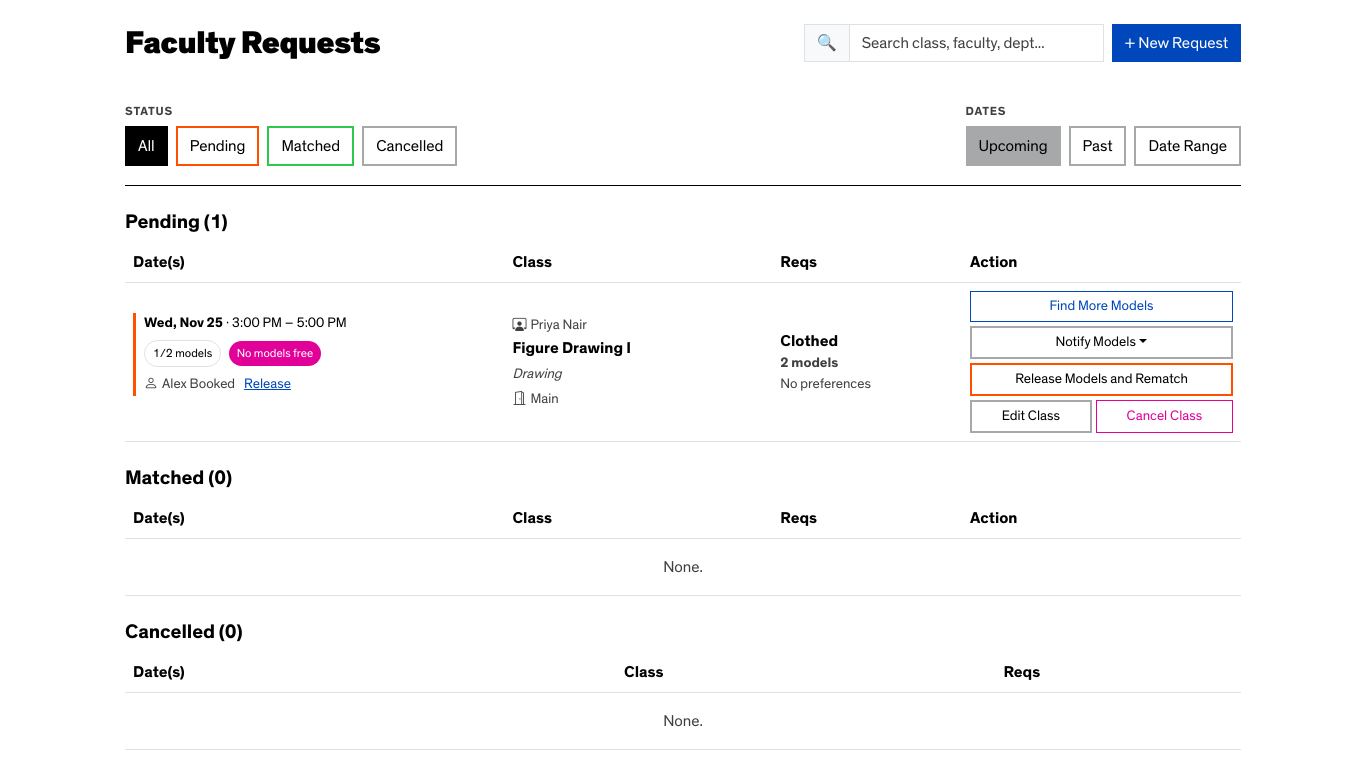
AllRequests (admin requests page) › which dates the page shows › can narrow to a date range, with labelled fields
Click the button "Date Range" at x=1188, y=146, box [1134, 126, 1241, 166]
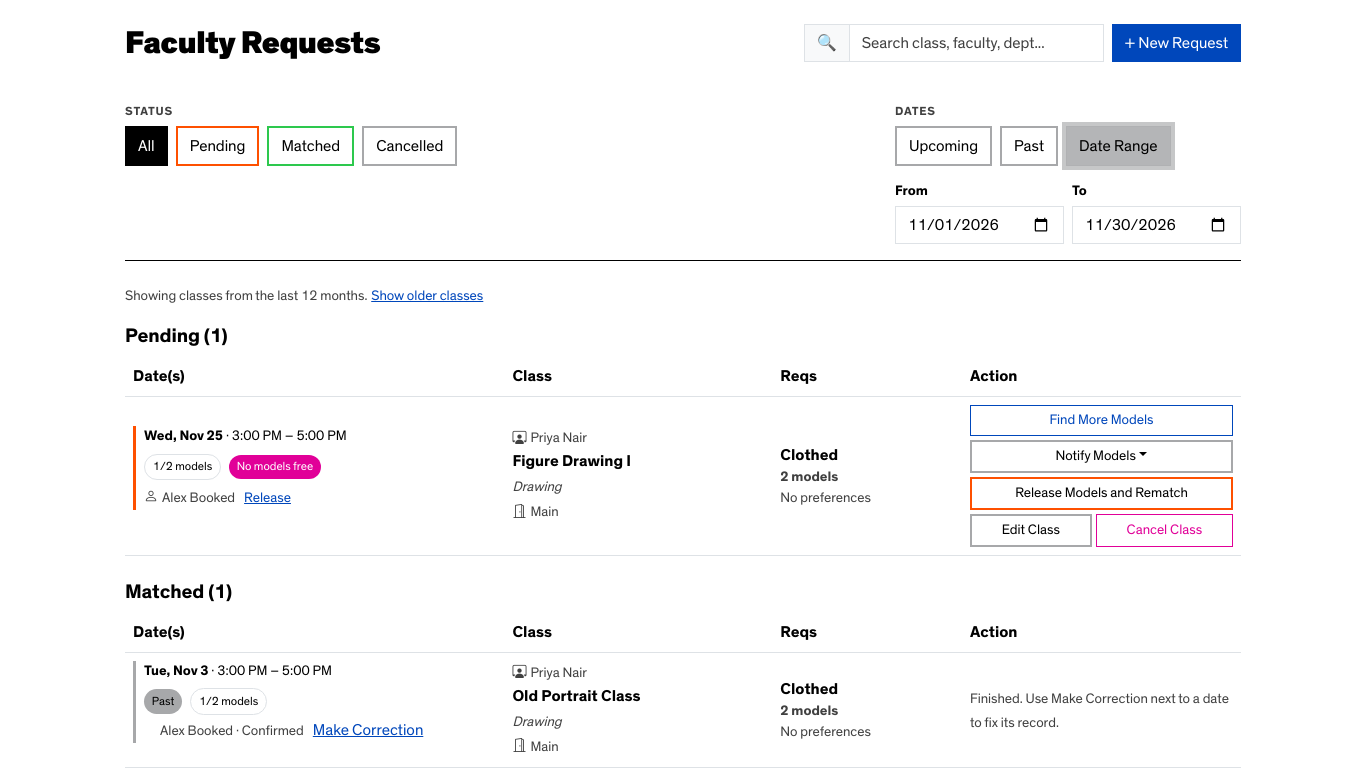
Now the date field labelled "From" is shown, box [895, 206, 1064, 244]
Now the date field labelled "To" is shown, box [1072, 206, 1241, 244]
